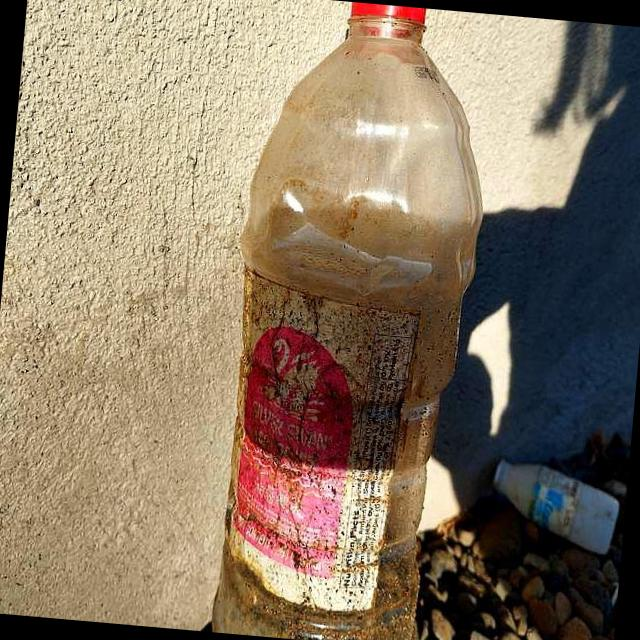Non-biodegradable: (211, 1, 500, 640)
